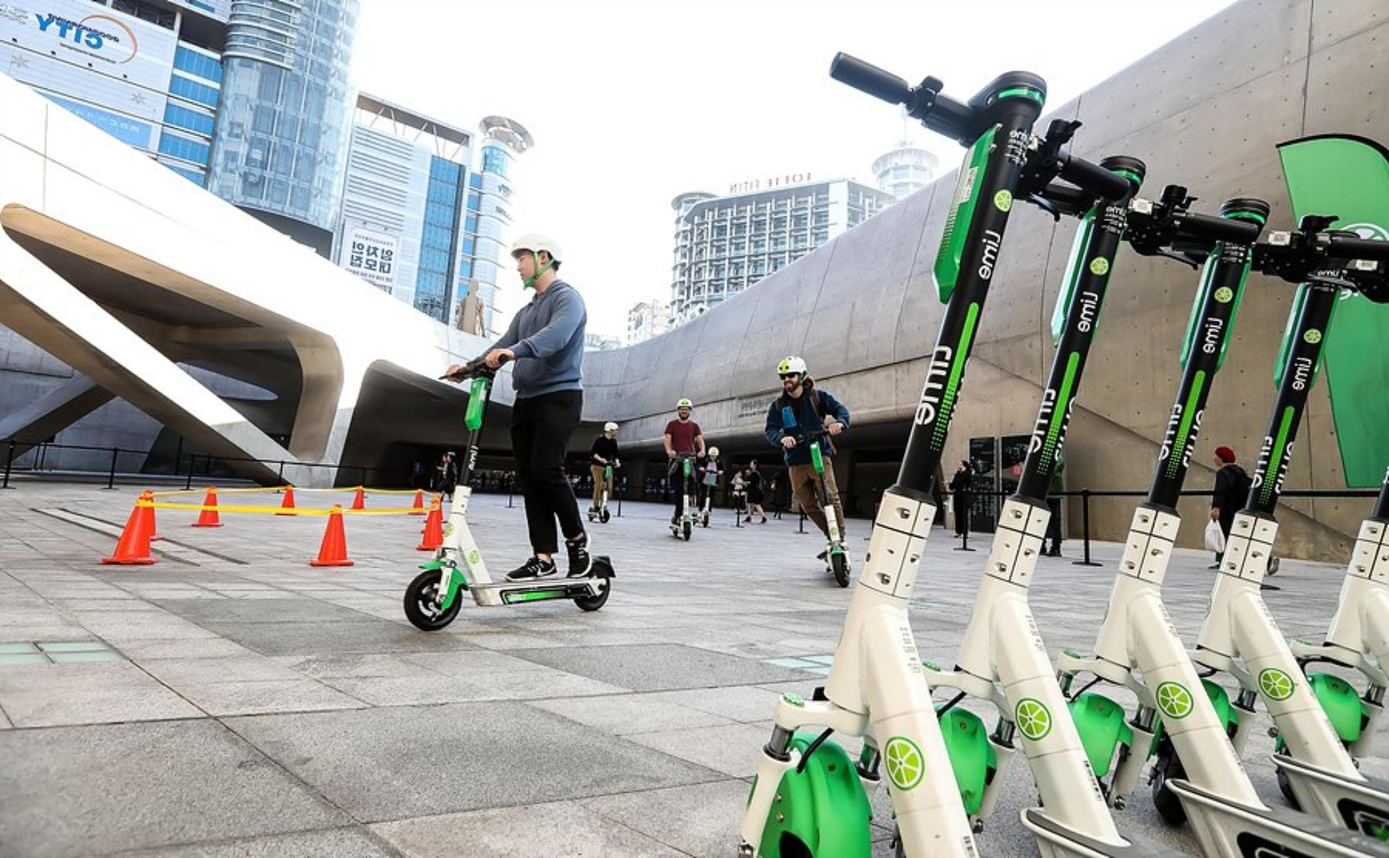helmet: (492, 229, 568, 298), (774, 355, 810, 398), (673, 398, 699, 421)
human: (460, 226, 587, 583), (761, 357, 850, 522), (657, 389, 708, 500)
kickboard: (402, 563, 616, 638), (815, 534, 856, 588), (667, 510, 715, 539)
